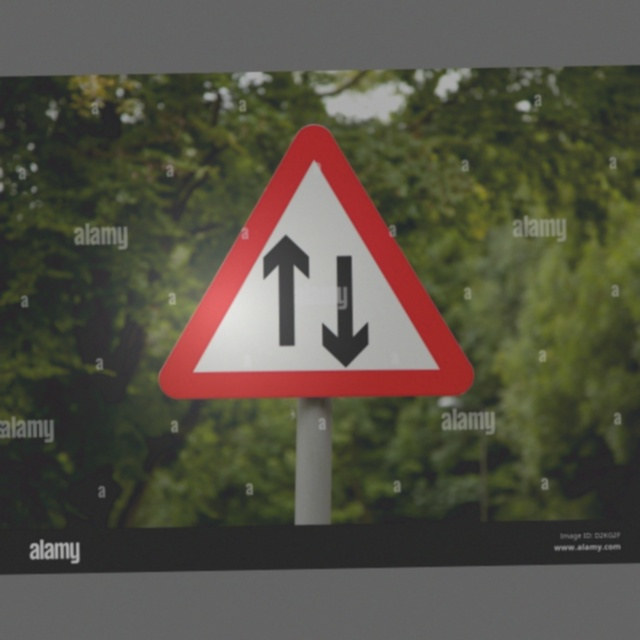Mandatory_Two_Way_Traffic: (152, 125, 474, 400)
